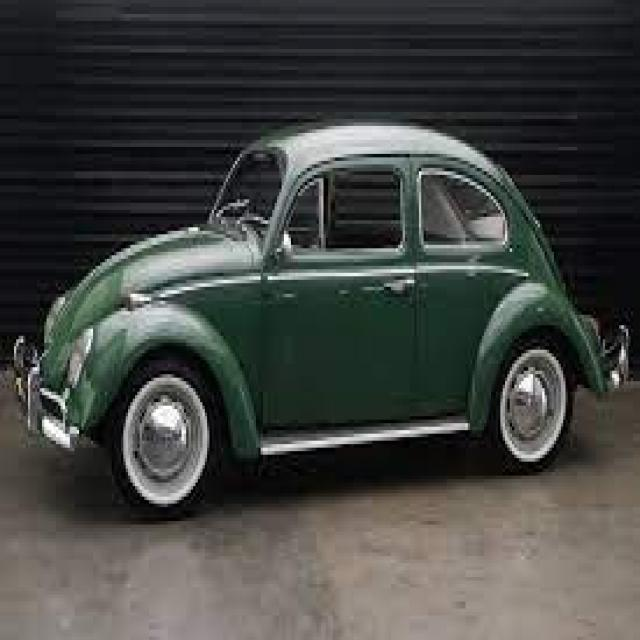cars: (28, 123, 626, 483)
